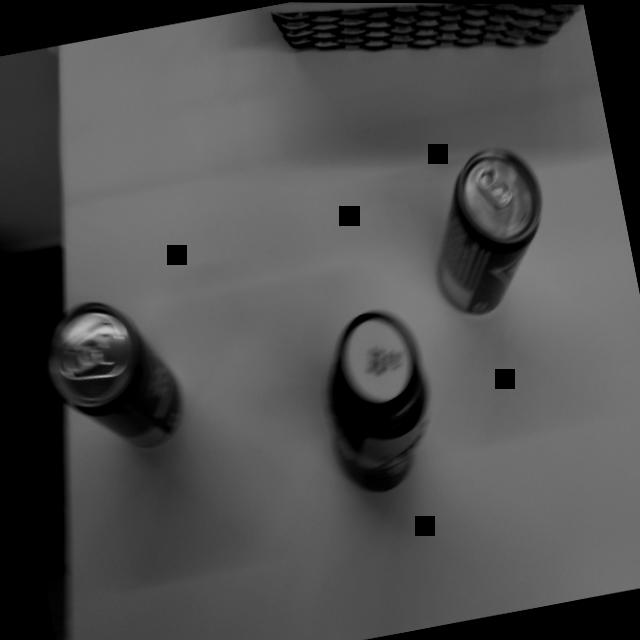chocolate_drink: (300, 298, 453, 509)
coke: (26, 281, 196, 474)
sprite: (407, 133, 568, 328)
